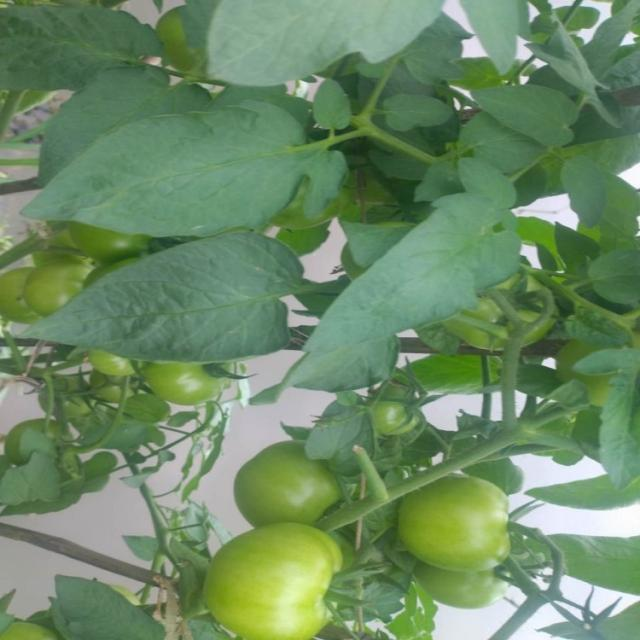tomato: (204, 527, 349, 636), (399, 463, 511, 568), (235, 442, 368, 528), (453, 264, 565, 351), (56, 219, 158, 283), (411, 554, 506, 622), (25, 258, 114, 324), (146, 357, 235, 416), (73, 350, 148, 411), (370, 389, 437, 447), (1, 261, 43, 326)
